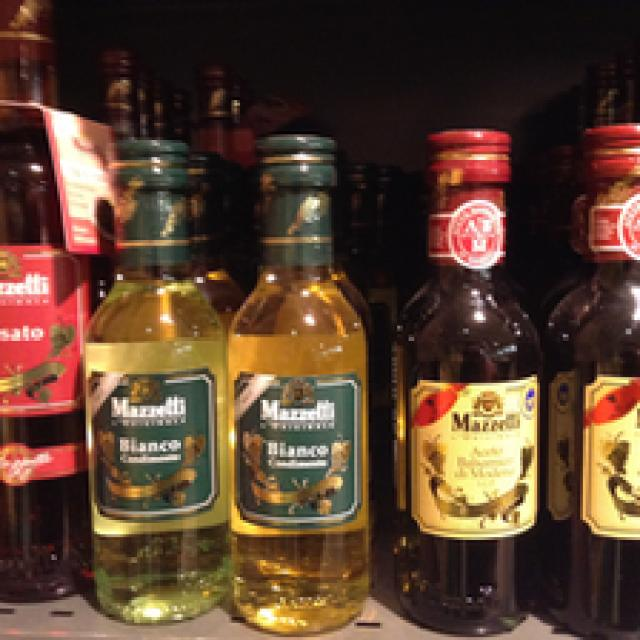groceries: (386, 129, 543, 637), (223, 132, 380, 628), (74, 134, 220, 620), (0, 0, 83, 600), (540, 120, 634, 631)
